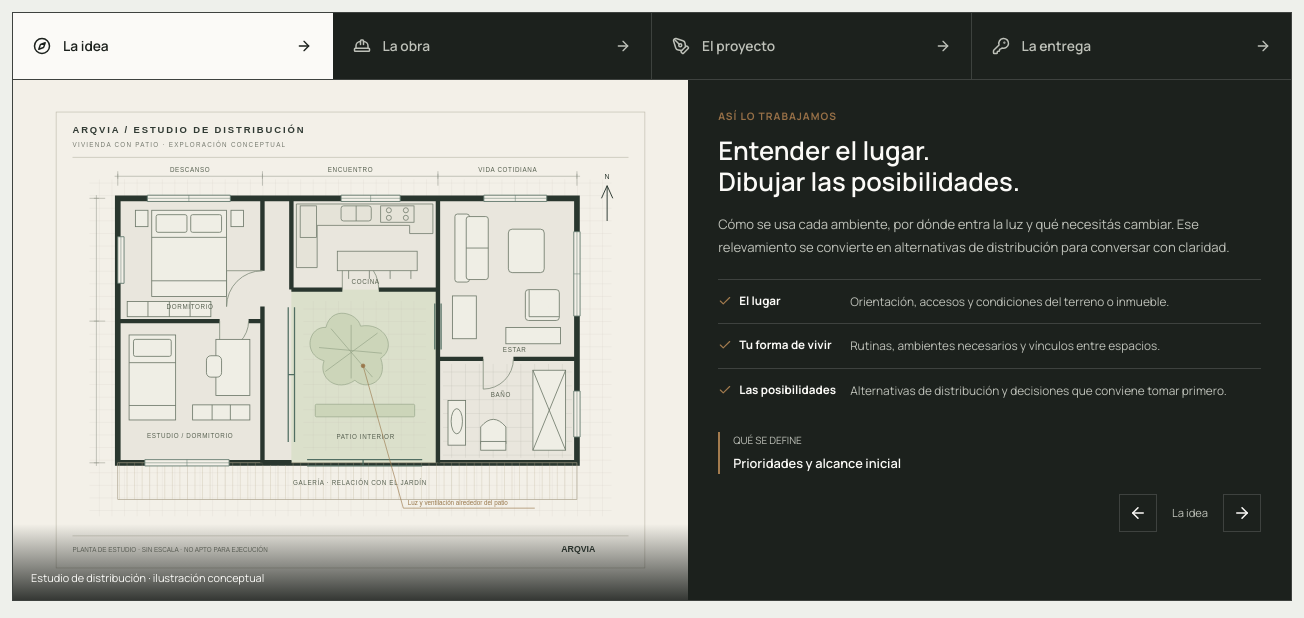
Test: project journey › changes image, content and selected tab together
Click the tab "La obra": (406, 45) x1=332 y1=13 x2=652 y2=79
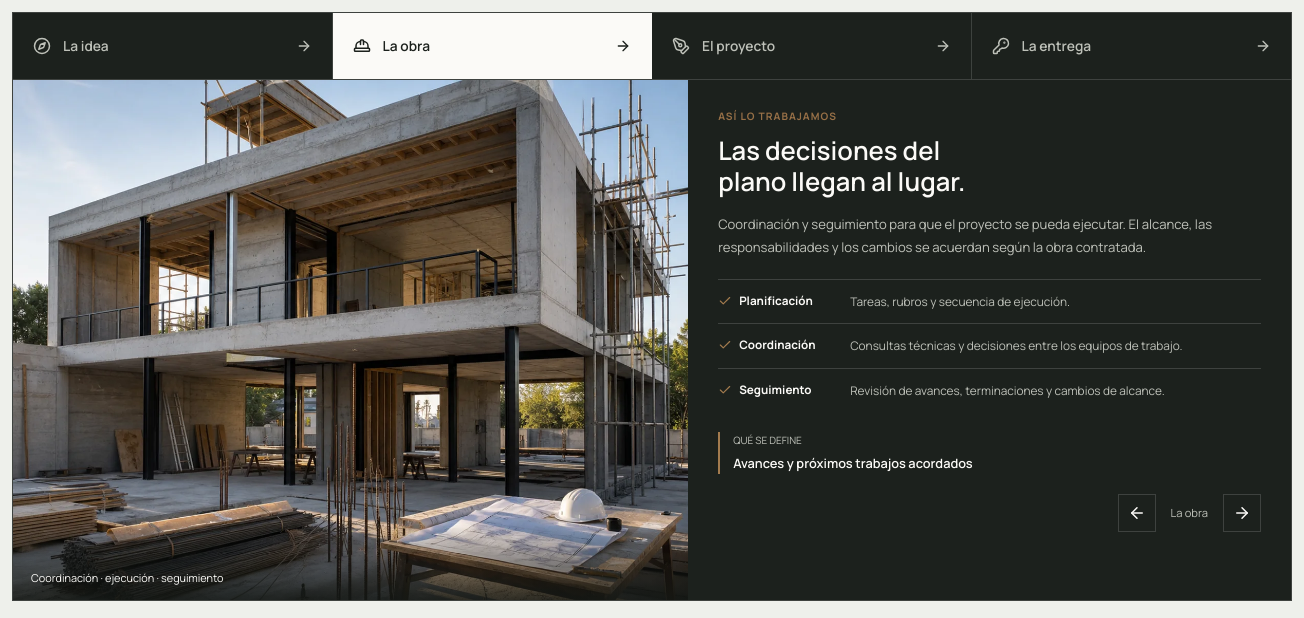
Check: the heading "Las decisiones del plano llegan al lugar." is shown, box x1=718 y1=133 x2=966 y2=199
